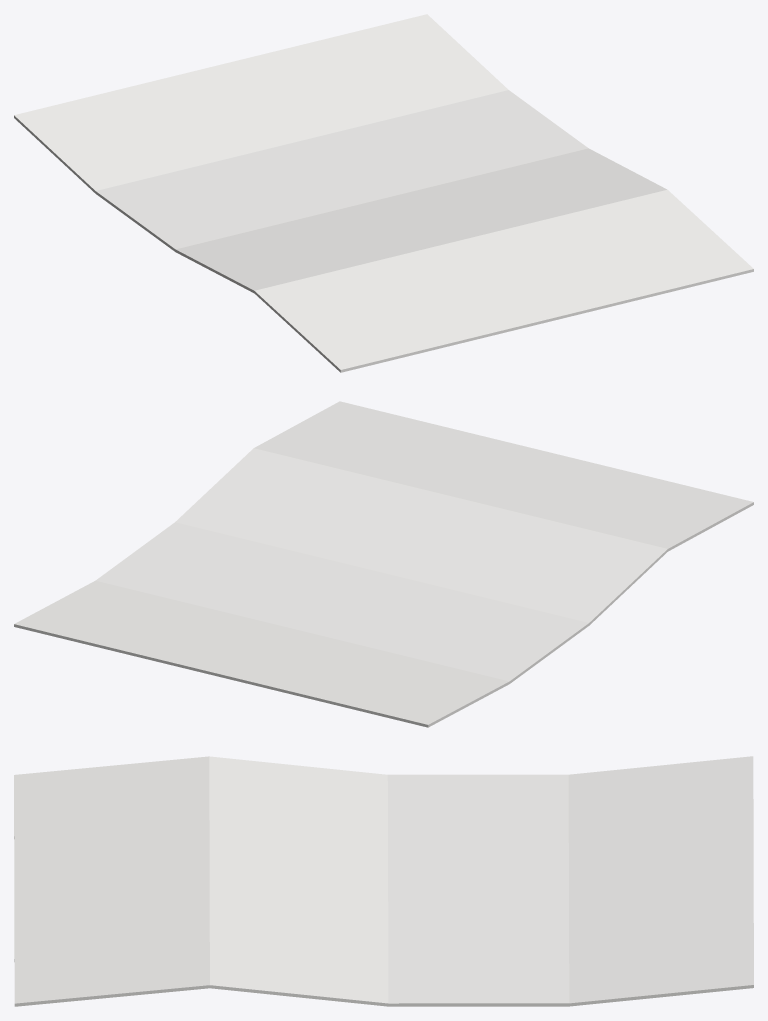
The model's file is Paper_6.fbx.
The picture shows the model from 3 angles, top to bottom: view 1: azimuth 30°, elevation 25°; view 2: azimuth 150°, elevation 25°; view 3: azimuth 270°, elevation 25°; orthographic projection. The views are drawn at different scales.
Parts seen in each view (by area): view 1: Paper_6; view 2: Paper_6; view 3: Paper_6.
Part boxes in pixels (x1,y1,x2,y2): Paper_6: [14, 14, 753, 372]; Paper_6: [14, 401, 753, 727]; Paper_6: [14, 756, 753, 1006].
Bounding box in the file's own units: 24.29 × 33.16 × 1.07.
